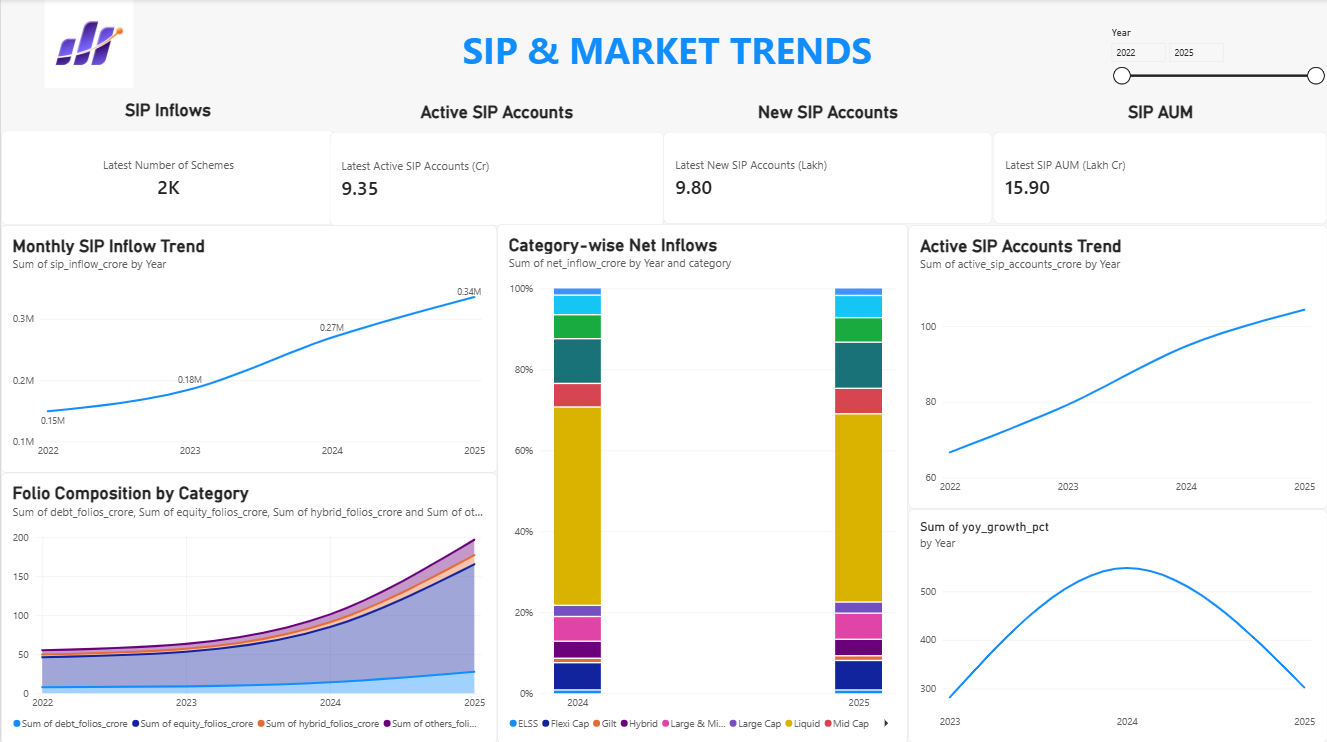

The dashboard page shown, as its layout file describes it:
{"tool":"powerbi","page":{"name":"SIP & Market Trends","canvas":[1920,1080],"ordinal":3},"visuals":[{"type":"textbox","box":[9.3,0,1910.7,146.4],"z":0},{"type":"cardVisual","title":"SIP Inflows","fields":{"Data":["01_fund_master.Latest Number of Schemes"]},"box":[0,146.4,483.7,180],"z":1000},{"type":"cardVisual","title":"Active SIP Accounts","fields":{"Data":["01_fund_master.Latest Active SIP Accounts (Cr)"]},"box":[475.6,147.7,484,180],"z":2000},{"type":"cardVisual","title":"New SIP Accounts","fields":{"Data":["01_fund_master.Latest New SIP Accounts (Lakh)"]},"box":[960,148.3,476.3,177.9],"z":3000},{"type":"cardVisual","title":"SIP AUM","fields":{"Data":["01_fund_master.Latest SIP AUM (Lakh Cr)"]},"box":[1436.3,148.3,483.7,177.9],"z":4000},{"type":"lineChart","title":"Monthly SIP Inflow Trend","fields":{"Category":["DimMonth.MonthDate.Variation.Date Hierarchy.Year","DimMonth.MonthDate.Variation.Date Hierarchy.Quarter","DimMonth.MonthDate.Variation.Date Hierarchy.Month","DimMonth.MonthDate.Variation.Date Hierarchy.Day"],"Y":["Sum(04_monthly_sip_inflows.sip_inflow_crore)"]},"box":[0,327.5,718.4,358.3],"z":5000},{"type":"lineChart","title":"Active SIP Accounts Trend","fields":{"Category":["DimMonth.MonthDate.Variation.Date Hierarchy.Year","DimMonth.MonthDate.Variation.Date Hierarchy.Quarter","DimMonth.MonthDate.Variation.Date Hierarchy.Month","DimMonth.MonthDate.Variation.Date Hierarchy.Day"],"Y":["Sum(04_monthly_sip_inflows.active_sip_accounts_crore)"]},"box":[1313.8,327.5,606.2,410.8],"z":6000},{"type":"hundredPercentStackedColumnChart","title":"Category-wise Net Inflows","fields":{"Category":["DimMonth.MonthDate.Variation.Date Hierarchy.Year","DimMonth.MonthDate.Variation.Date Hierarchy.Quarter","DimMonth.MonthDate.Variation.Date Hierarchy.Month","DimMonth.MonthDate.Variation.Date Hierarchy.Day"],"Series":["05_category_inflows.category"],"Y":["Sum(05_category_inflows.net_inflow_crore)"]},"box":[718.4,325.7,594.6,754.6],"z":7000},{"type":"stackedAreaChart","title":"Folio Composition by Category","fields":{"Category":["DimMonth.MonthDate.Variation.Date Hierarchy.Year","DimMonth.MonthDate.Variation.Date Hierarchy.Quarter","DimMonth.MonthDate.Variation.Date Hierarchy.Month","DimMonth.MonthDate.Variation.Date Hierarchy.Day"],"Y":["Sum(06_industry_folio_count.debt_folios_crore)","Sum(06_industry_folio_count.equity_folios_crore)","Sum(06_industry_folio_count.hybrid_folios_crore)","Sum(06_industry_folio_count.others_folios_crore)"]},"box":[0,685.9,718.4,394.5],"z":8000},{"type":"lineChart","fields":{"Category":["DimMonth.MonthDate.Variation.Date Hierarchy.Year","DimMonth.MonthDate.Variation.Date Hierarchy.Quarter","DimMonth.MonthDate.Variation.Date Hierarchy.Month","DimMonth.MonthDate.Variation.Date Hierarchy.Day"],"Y":["Sum(04_monthly_sip_inflows.yoy_growth_pct)"]},"box":[1313.8,738.3,606.2,340.2],"z":9000},{"type":"slicer","fields":{"Values":["DimMonth.Year"]},"box":[1599.7,39.8,320.4,176.4],"z":10000},{"type":"image","box":[0,0,255.2,128.5],"z":11000}]}

Visuals, with their boxes in screenshot pixels (x1, y1, x2, y2), scaled from the page's 1920x1080 canvas onto the 1327x742 screenshot:
textbox: BBox(6, 0, 1326, 101)
"SIP Inflows" cardVisual: BBox(0, 101, 334, 224)
"Active SIP Accounts" cardVisual: BBox(329, 101, 663, 225)
"New SIP Accounts" cardVisual: BBox(664, 102, 993, 224)
"SIP AUM" cardVisual: BBox(993, 102, 1326, 224)
"Monthly SIP Inflow Trend" lineChart: BBox(0, 225, 497, 471)
"Active SIP Accounts Trend" lineChart: BBox(908, 225, 1326, 507)
"Category-wise Net Inflows" hundredPercentStackedColumnChart: BBox(497, 224, 907, 741)
"Folio Composition by Category" stackedAreaChart: BBox(0, 471, 497, 741)
lineChart - DimMonth.MonthDate.Variation.Date Hierarchy.Year x DimMonth.MonthDate.Variation.Date Hierarchy.Quarter: BBox(908, 507, 1326, 741)
slicer - DimMonth.Year: BBox(1106, 27, 1326, 149)
image: BBox(0, 0, 176, 88)
